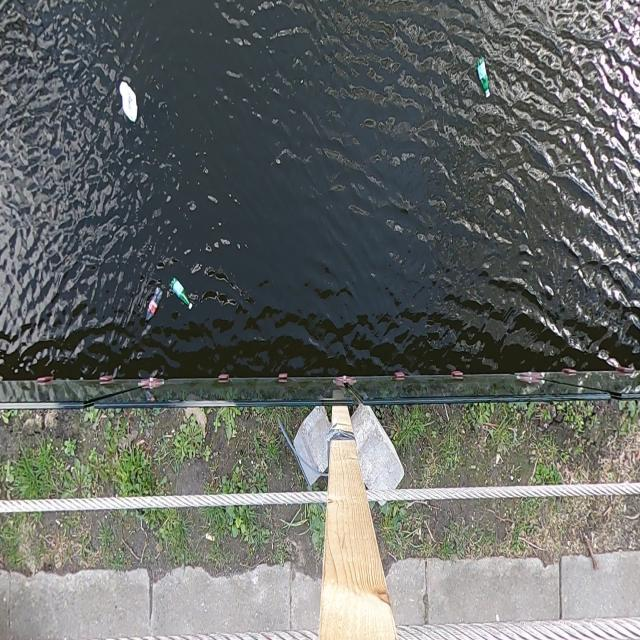Bouteille plastique: (170, 273, 194, 320), (474, 50, 494, 105), (143, 282, 165, 329)
Sac plastique: (115, 75, 144, 125)
